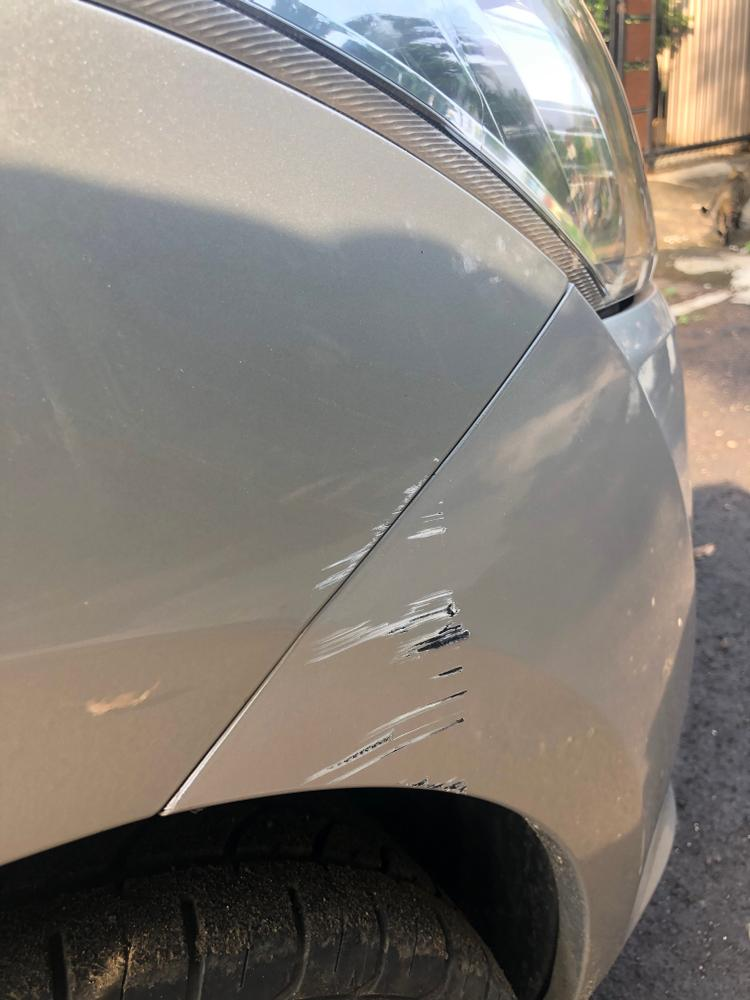scratch: (302, 486, 477, 798), (297, 449, 447, 594)
